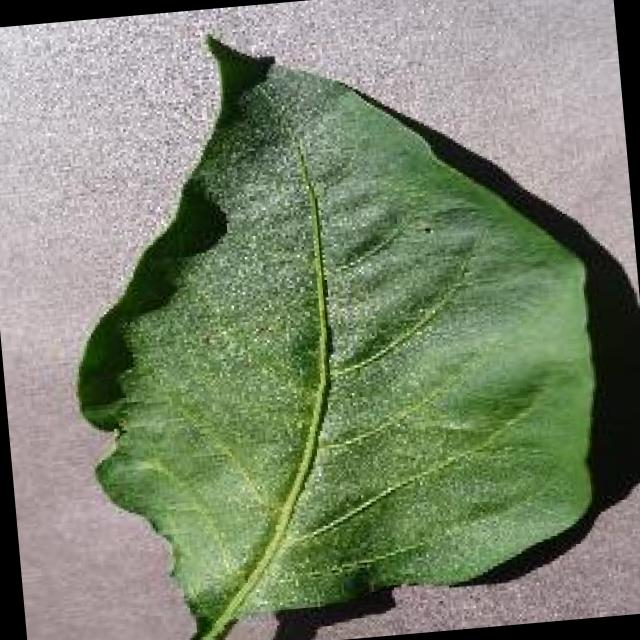Chilli_Healthy: (42, 0, 619, 640)
